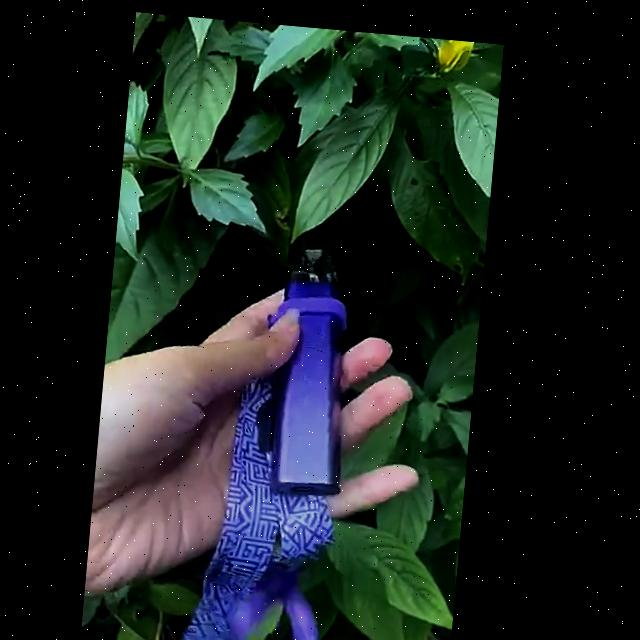vape: (276, 231, 365, 494)
